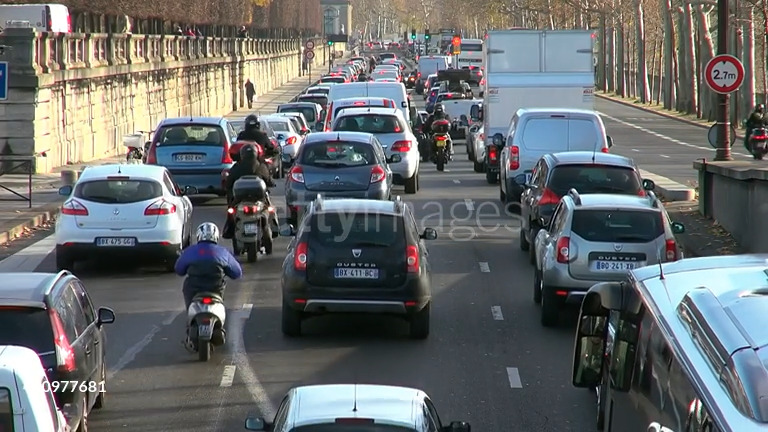car_number: (591, 261, 645, 272), (334, 268, 378, 278), (96, 237, 135, 246), (174, 154, 203, 162)
